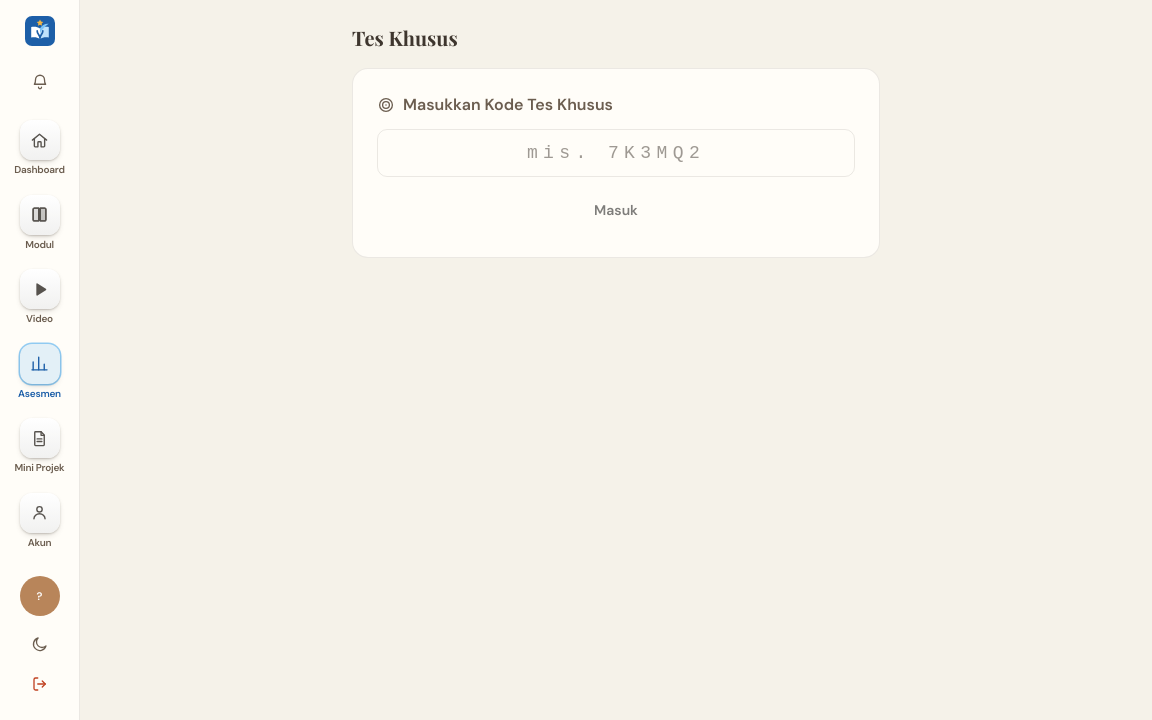
Test case: TesKhusus — mahasiswa (spec §9 WP6b) › kode salah menampilkan pesan "Kode tidak dikenal…"
The width and height of the screenshot is (1152, 720).
Type "SALAH1" into the field with placeholder "mis. 7K3MQ2".
click(616, 153); type("SALAH1")  # box [377,129,855,177]
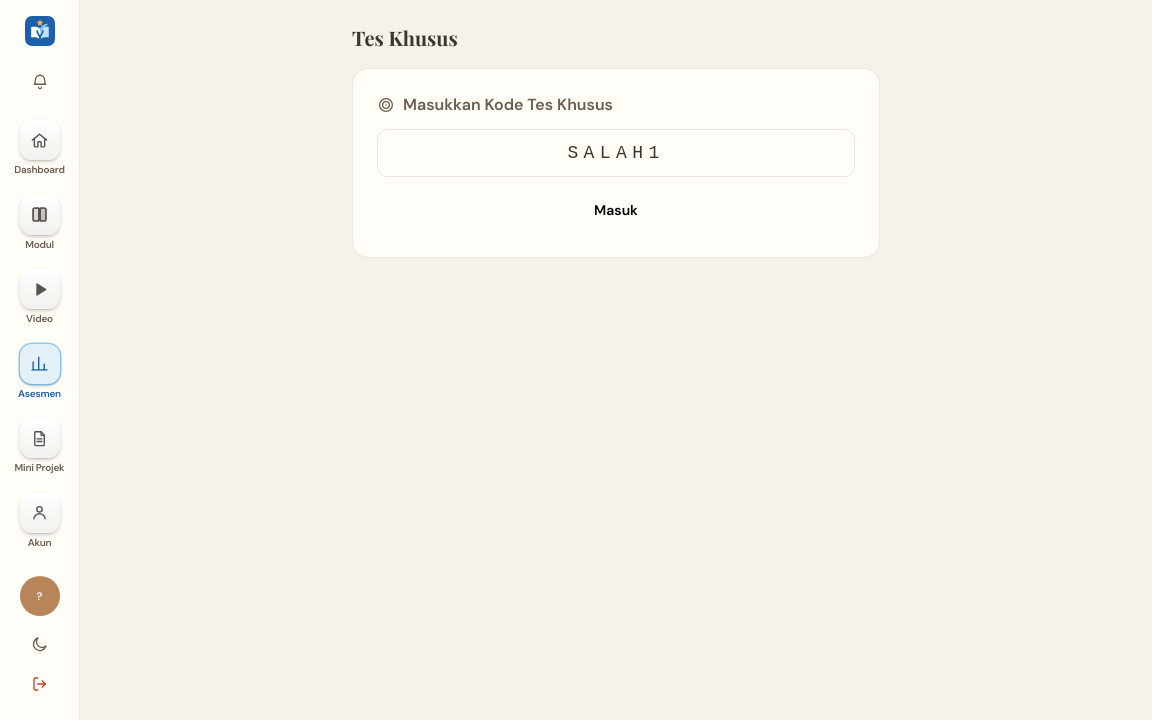
Click the button "Masuk".
click(616, 211)  # box [377,189,855,233]
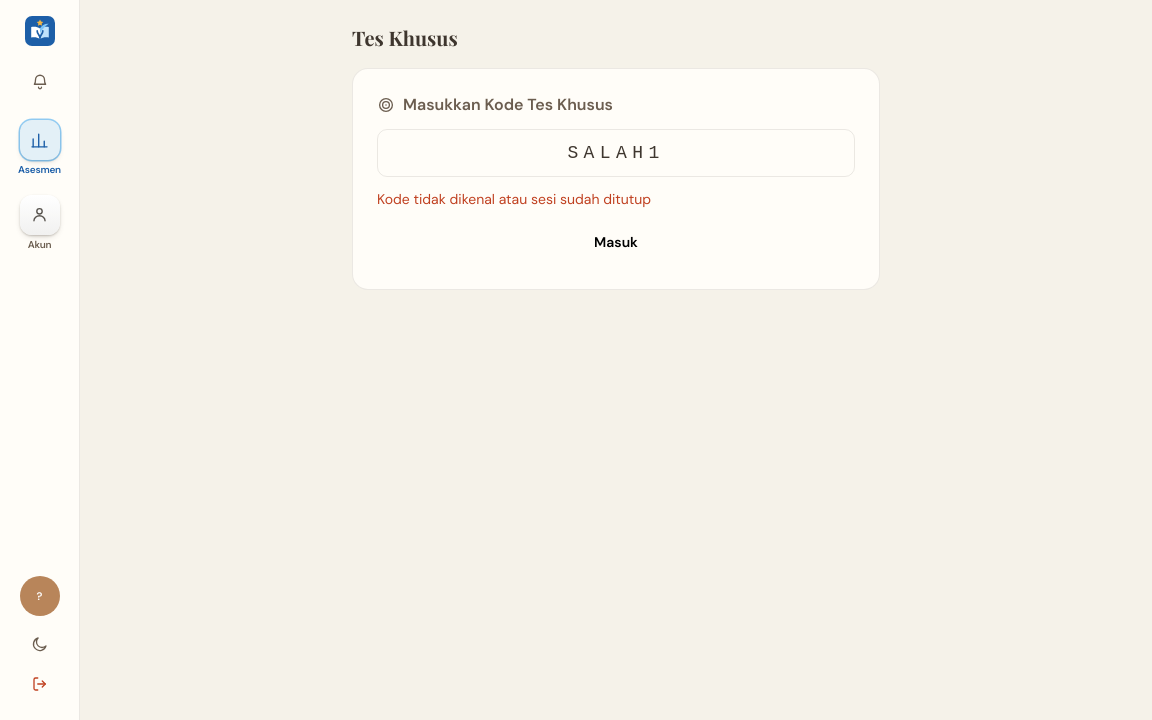
Check: the text "Kode tidak dikenal atau sesi sudah ditutup" is shown, box [377,190,651,208]
